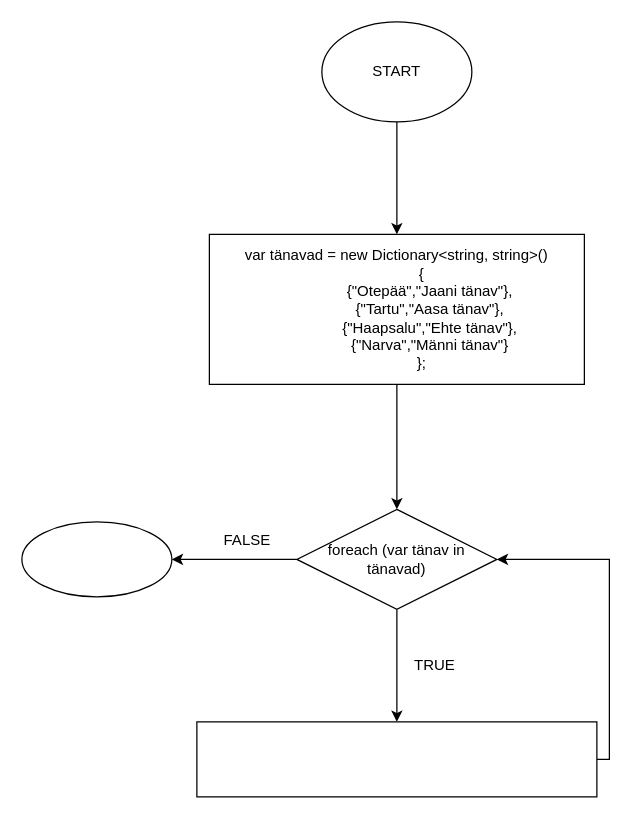
The diagram is 641 pixels wide and 819 high, and some of its shapes have lost their labels. Each missing label, with the box of its shape:
Console.WriteLine($"{tänav.Key} - {tänav.Value}");: (196, 721, 597, 797)
END: (21, 521, 172, 597)
